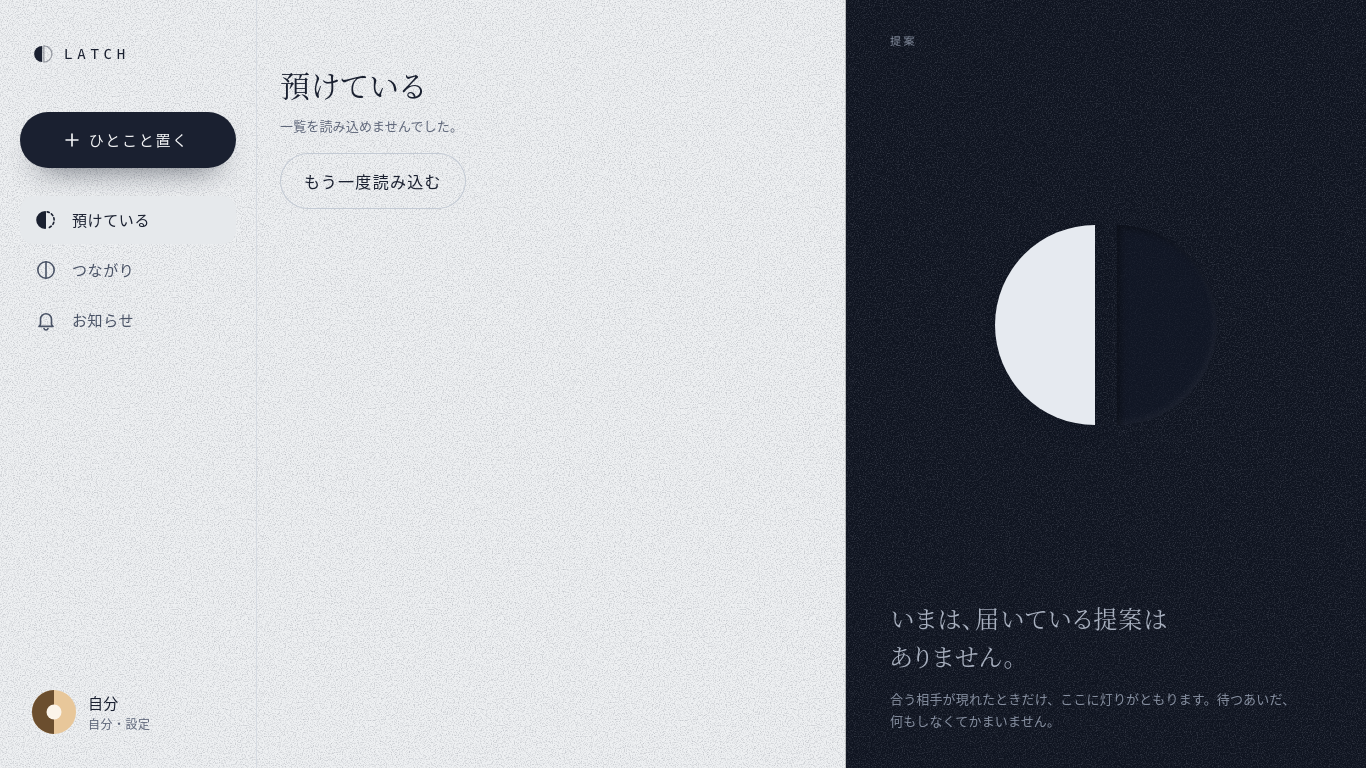
it: Home › 取得に失敗したら再試行を出し・もう一度読み込むで一覧を取り直す
Expected: the text "一覧を読み込めませんでした。" is shown, [280, 116, 463, 135]
Click the button "もう一度読み込む" at point(373, 181), box [280, 153, 466, 209]
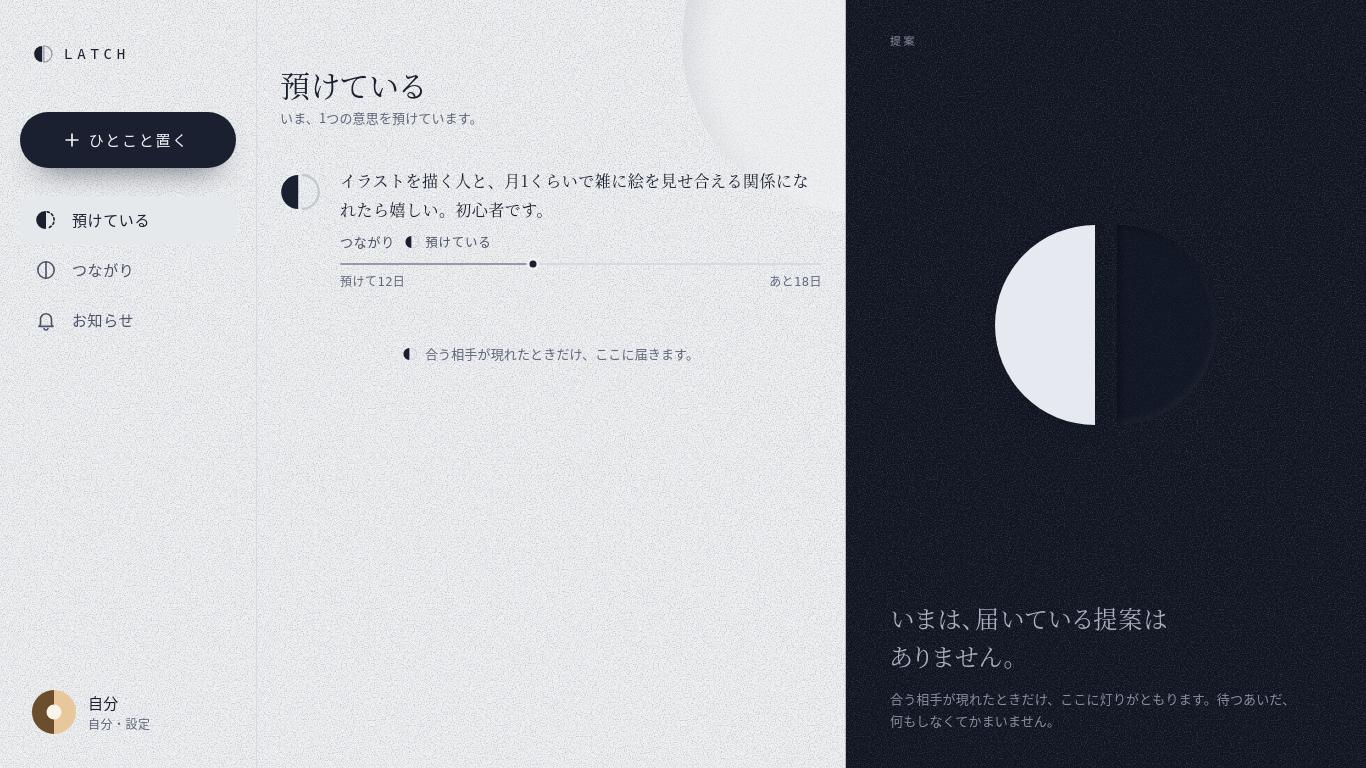
Expected: the text "イラストを描く人と、月1くらいで雑に絵を見せ合える関係になれたら嬉しい。初心者です。" is shown, [340, 167, 822, 225]
